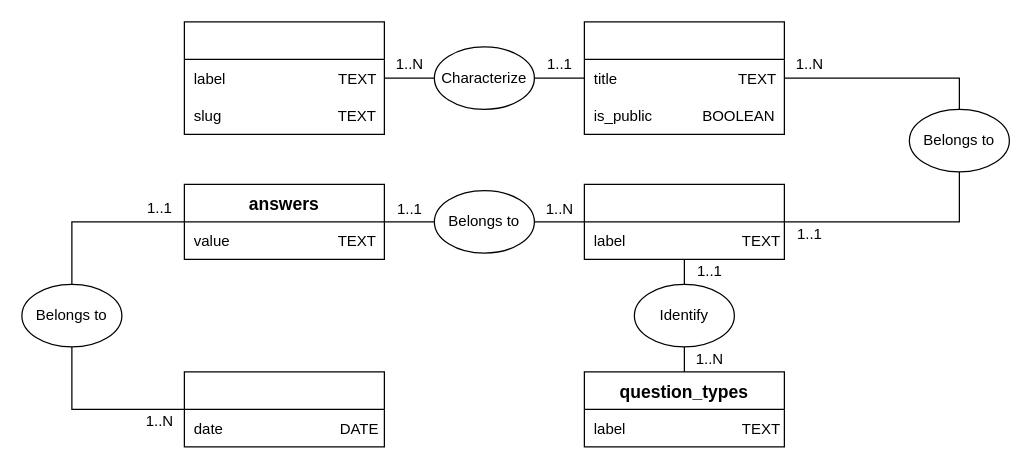
The diagram is 1031 pixels wide and 469 high, and some of its shapes have lost their labels. Here are the shapes that lost their labels. From the top down, the box of each, then its label:
(183, 21, 384, 134): quiz_states
(583, 21, 784, 134): quizzes
(583, 183, 784, 259): questions
(183, 371, 384, 447): fulfillments
